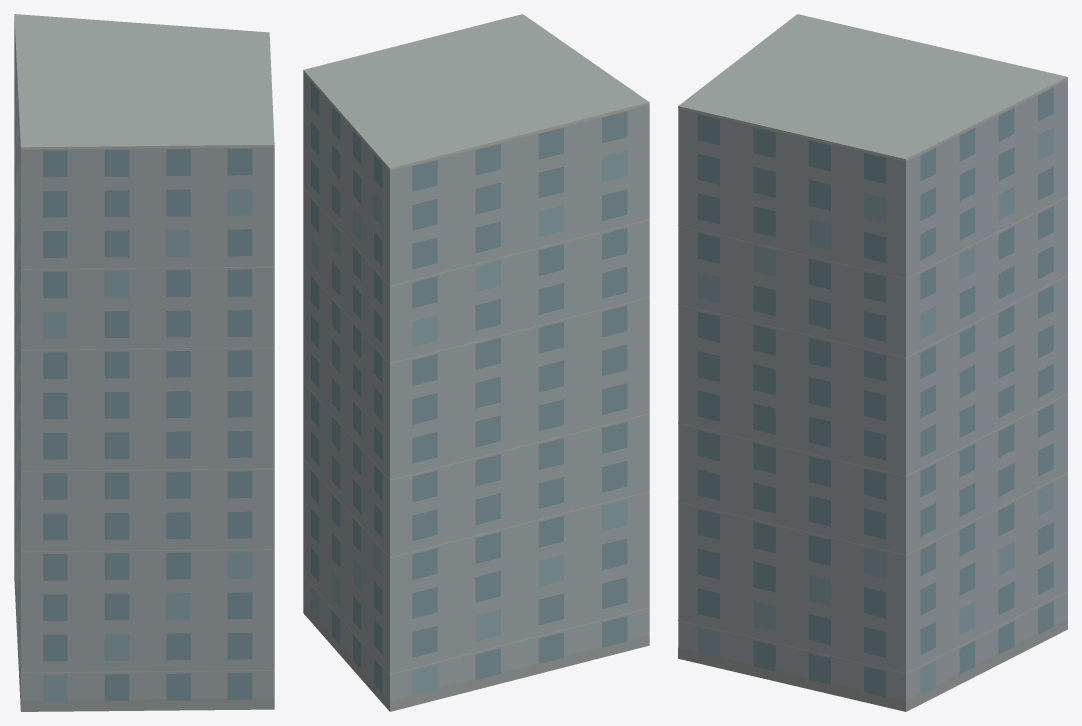
Rendered from residential-e0bc6fe6-8cb9-4746-bfe6-5be7e5f29184.glb.
The picture shows the model from 3 angles, left to right: view 1: azimuth 30°, elevation 25°; view 2: azimuth 150°, elevation 25°; view 3: azimuth 270°, elevation 25°; orthographic projection. The views are drawn at different scales.
Visible parts, largest first — view 1: residential-e0bc6fe6-8cb9-4746-bfe6-5be7e5f29184.tmp; view 2: residential-e0bc6fe6-8cb9-4746-bfe6-5be7e5f29184.tmp; view 3: residential-e0bc6fe6-8cb9-4746-bfe6-5be7e5f29184.tmp.
Boxes of the visible parts, x1=… form: residential-e0bc6fe6-8cb9-4746-bfe6-5be7e5f29184.tmp: x1=14, y1=14, x2=274, y2=711; residential-e0bc6fe6-8cb9-4746-bfe6-5be7e5f29184.tmp: x1=303, y1=14, x2=649, y2=711; residential-e0bc6fe6-8cb9-4746-bfe6-5be7e5f29184.tmp: x1=678, y1=14, x2=1067, y2=711.
Size of the model in its own units: 32.16 by 57 by 36.45.
